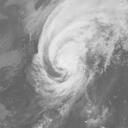cyclone: (36, 6, 91, 98)
